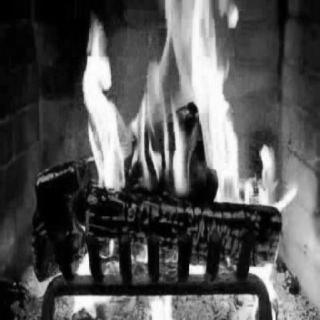Fire: (20, 0, 317, 306)
